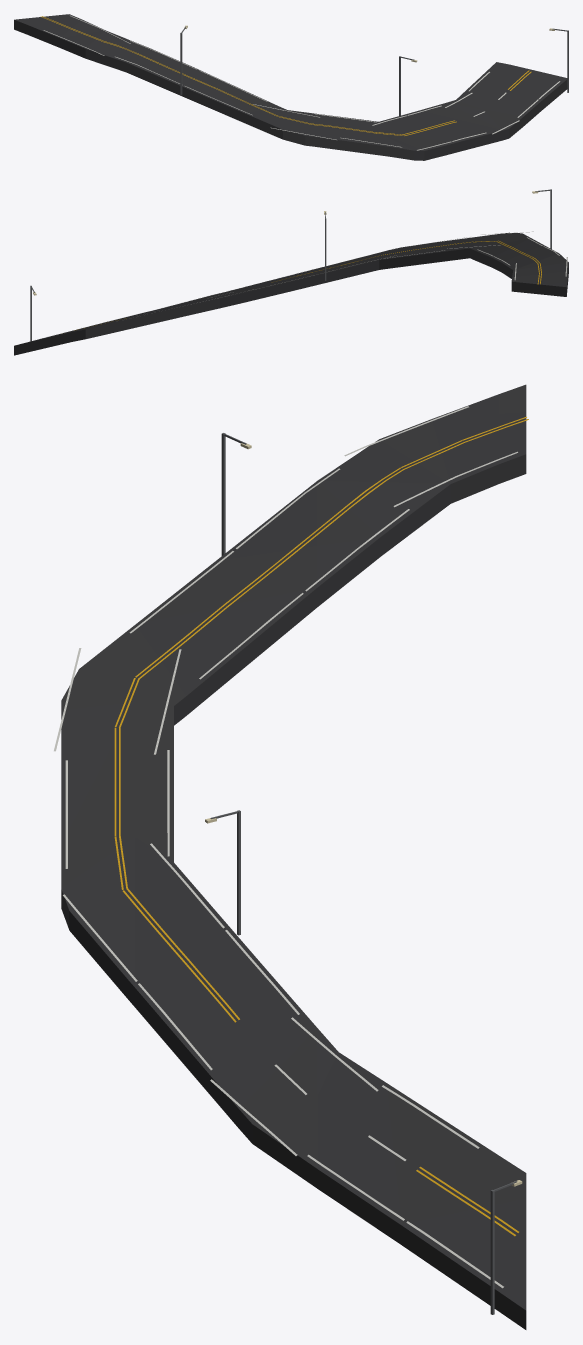
The model's file is 16-54731-29720.6ad53ffa.glb.
3 views of the same model, one above another, from view 1: azimuth 30°, elevation 25°; view 2: azimuth 150°, elevation 25°; view 3: azimuth 270°, elevation 25° (orthographic). The views are drawn at different scales.
Bounding box in the file's own units: 70.21 × 27.09 × 26.16.
